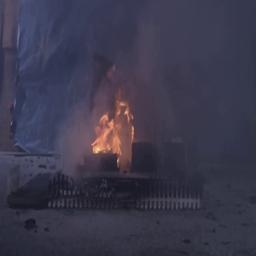fire: (91, 91, 137, 165)
